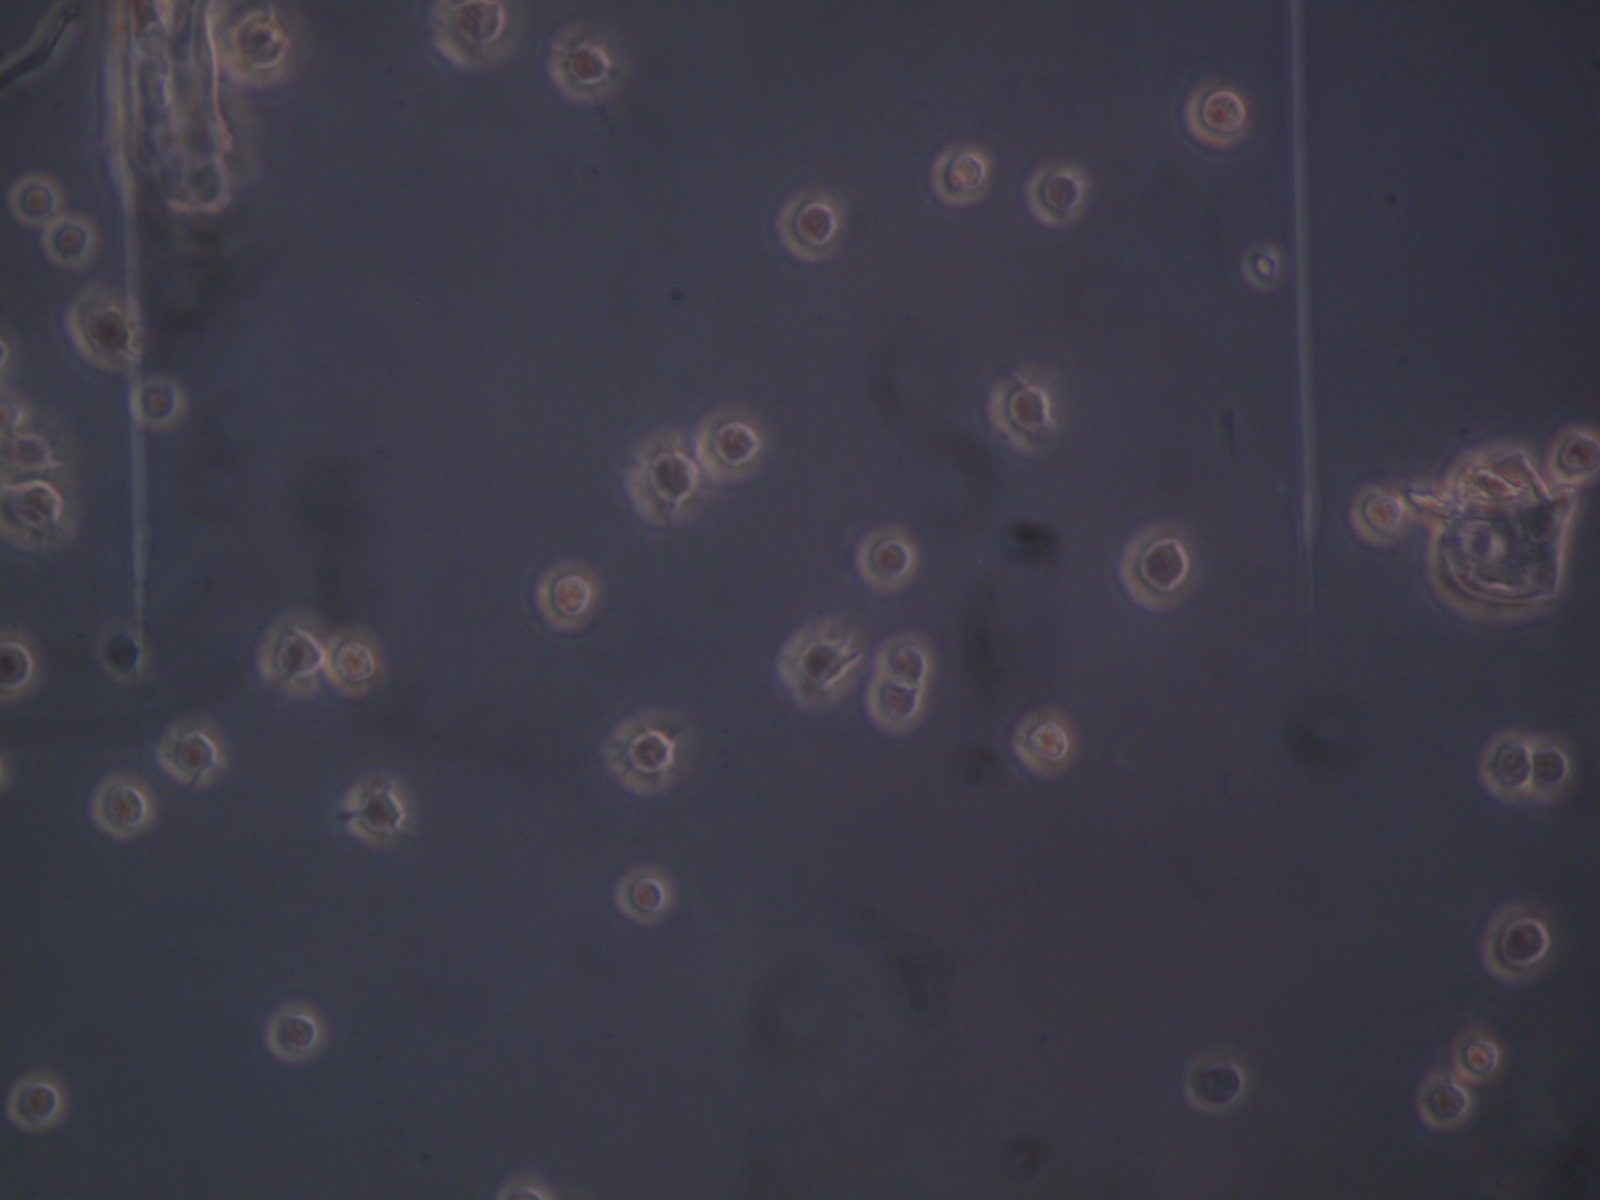hemo: (207, 4, 304, 88), (625, 437, 703, 526), (1119, 523, 1196, 611), (428, 1, 522, 71), (776, 630, 853, 708), (66, 287, 135, 371), (1480, 904, 1550, 983), (603, 718, 675, 794), (986, 377, 1053, 456), (695, 406, 763, 483), (256, 621, 325, 695), (547, 30, 614, 105), (775, 192, 840, 263), (1010, 708, 1076, 778), (535, 561, 597, 632), (1, 478, 64, 545), (1184, 83, 1249, 147), (157, 724, 220, 785), (1182, 1054, 1246, 1114), (346, 782, 407, 845), (89, 776, 150, 839), (1349, 484, 1409, 547), (1479, 731, 1533, 799), (855, 529, 915, 591), (1026, 165, 1085, 227), (929, 146, 990, 205), (325, 630, 379, 697), (614, 866, 671, 925), (266, 1005, 321, 1064), (876, 634, 934, 689), (8, 1075, 63, 1131), (1416, 1074, 1471, 1129), (1550, 425, 1600, 485), (867, 678, 923, 731), (130, 374, 183, 430), (8, 173, 62, 226), (42, 216, 96, 268), (1, 628, 37, 703), (98, 625, 145, 682), (1529, 736, 1571, 799), (1453, 1030, 1502, 1083), (1, 430, 55, 478), (1240, 245, 1283, 291), (493, 1175, 554, 1200), (1, 391, 26, 436), (1, 321, 13, 383), (1, 737, 9, 807)
